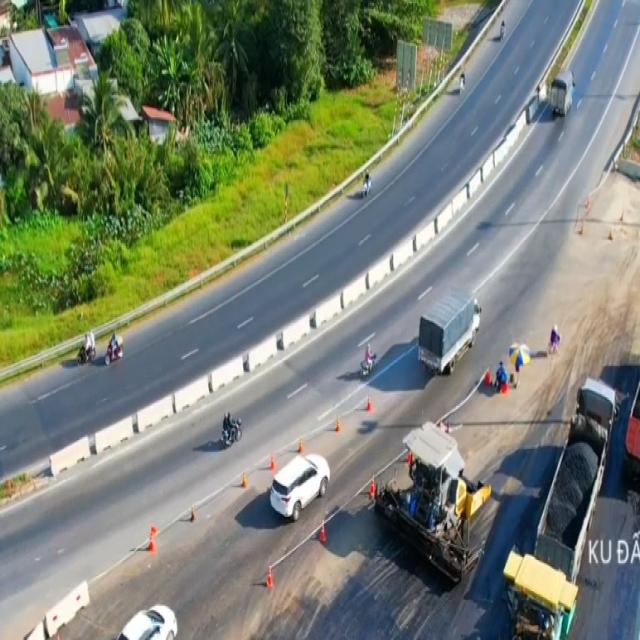car: (269, 456, 329, 526)
motorbike: (221, 413, 242, 448), (104, 334, 124, 368), (78, 334, 97, 364), (360, 344, 376, 375), (362, 171, 372, 197)
truck: (419, 290, 483, 372), (550, 66, 576, 118)
